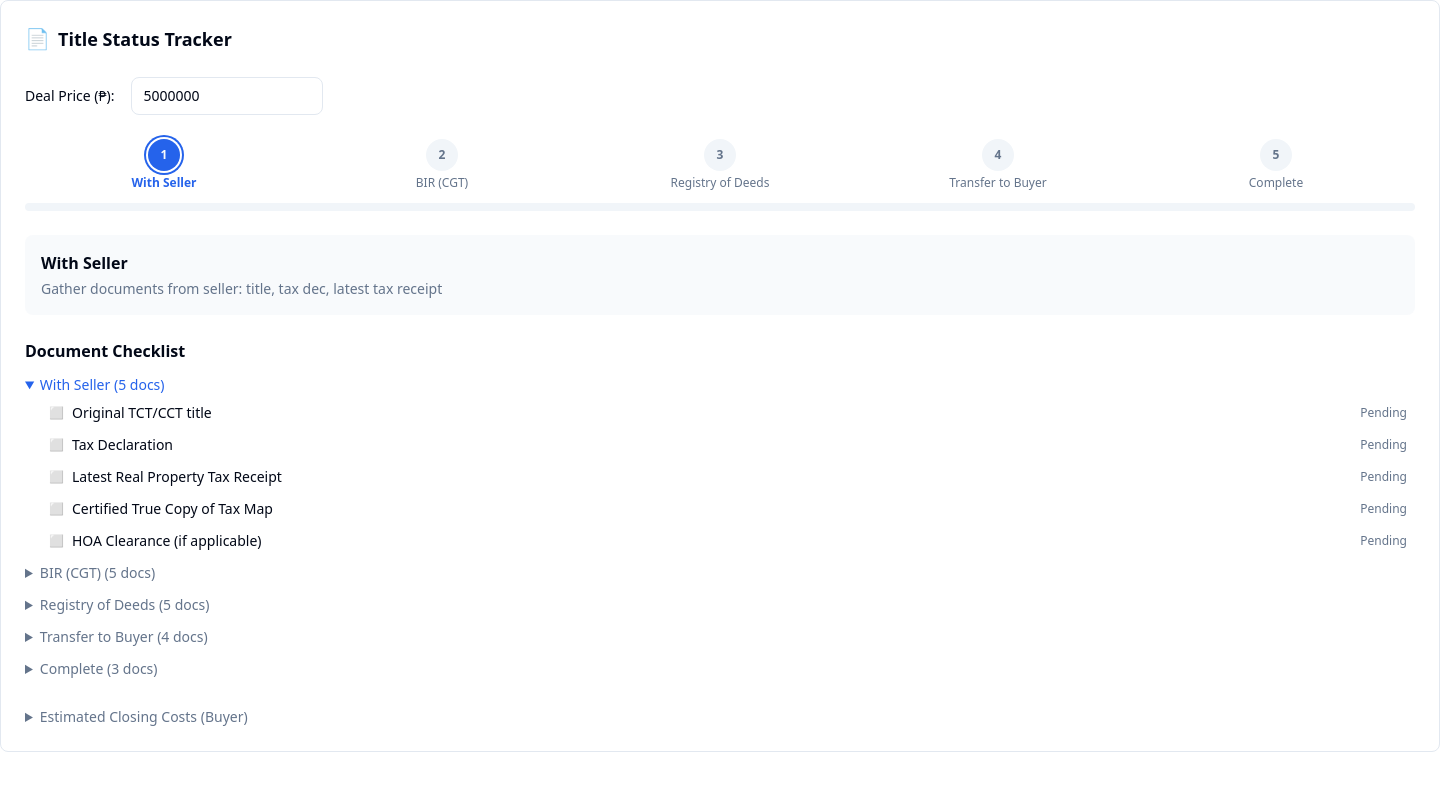
Test: TitleStatusTracker › advances to Complete stage
This screenshot has width=1440, height=810.
Click the button "5": (1276, 155) [1260,139,1292,171]
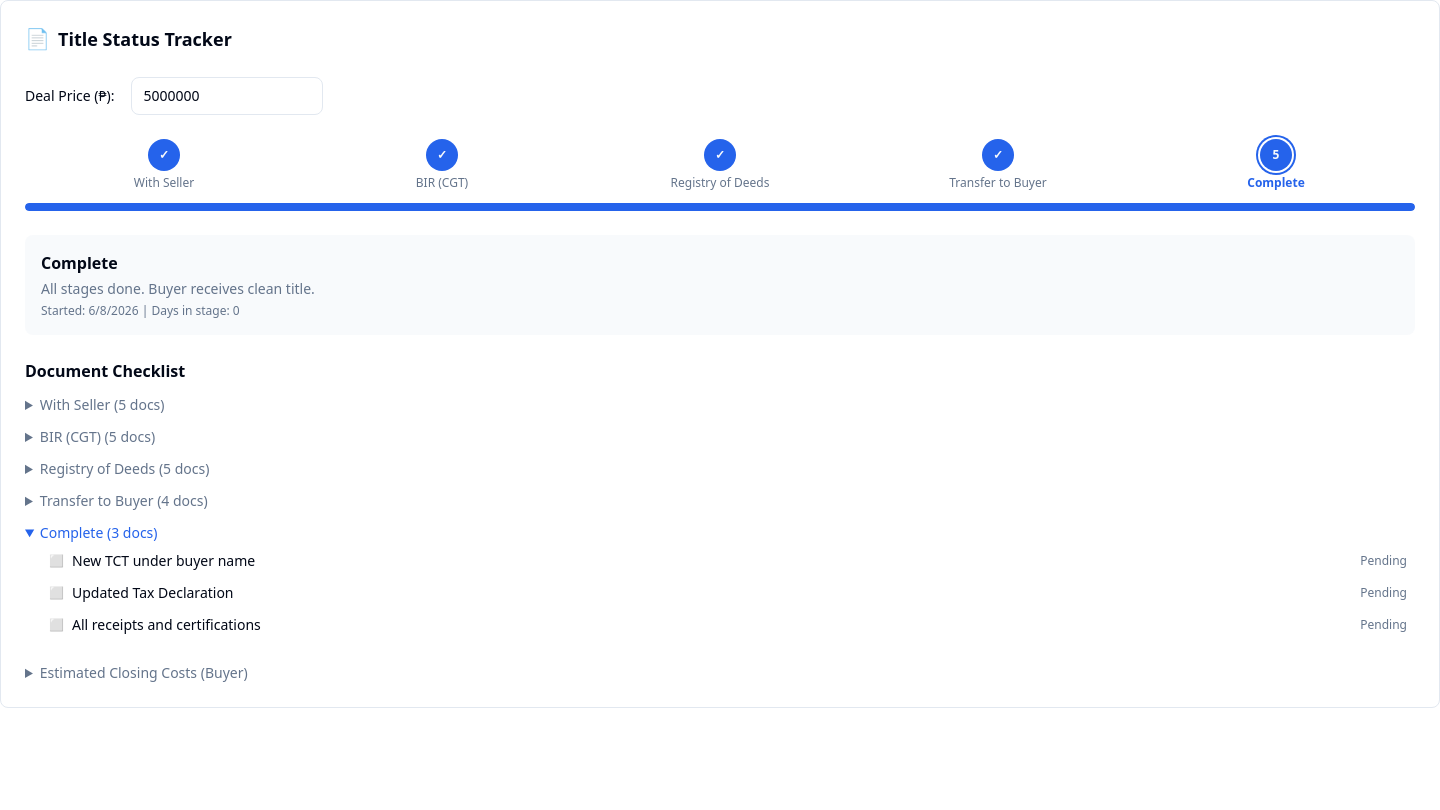
Check: the text "All stages done. Buyer receives clean title." is shown, box [41,279,315,298]
